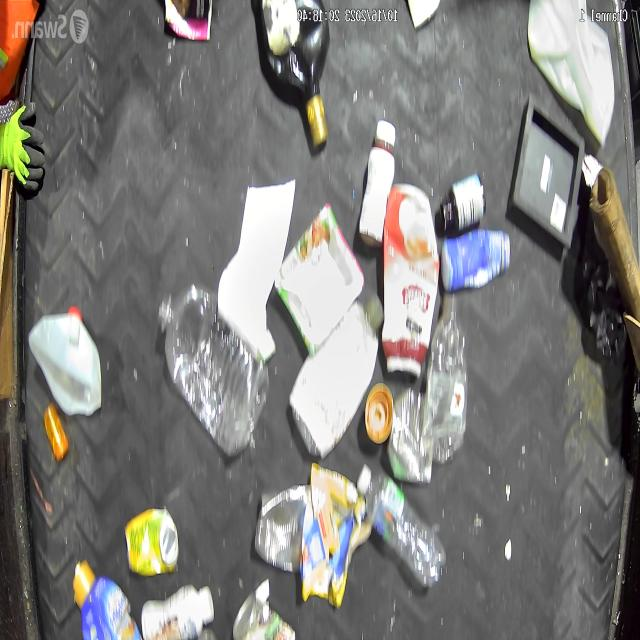can: (122, 492, 182, 583), (251, 482, 310, 569), (386, 384, 432, 488), (236, 593, 299, 640)
milk_jug: (525, 0, 616, 158), (34, 301, 104, 423)
plastic_bottle: (156, 280, 272, 456), (353, 459, 450, 598), (422, 292, 468, 469)
